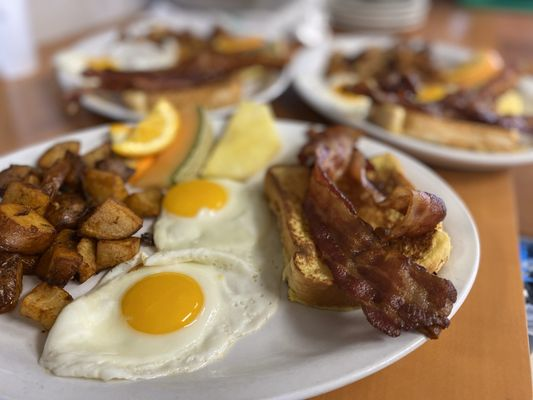soup: (265, 124, 475, 341)
